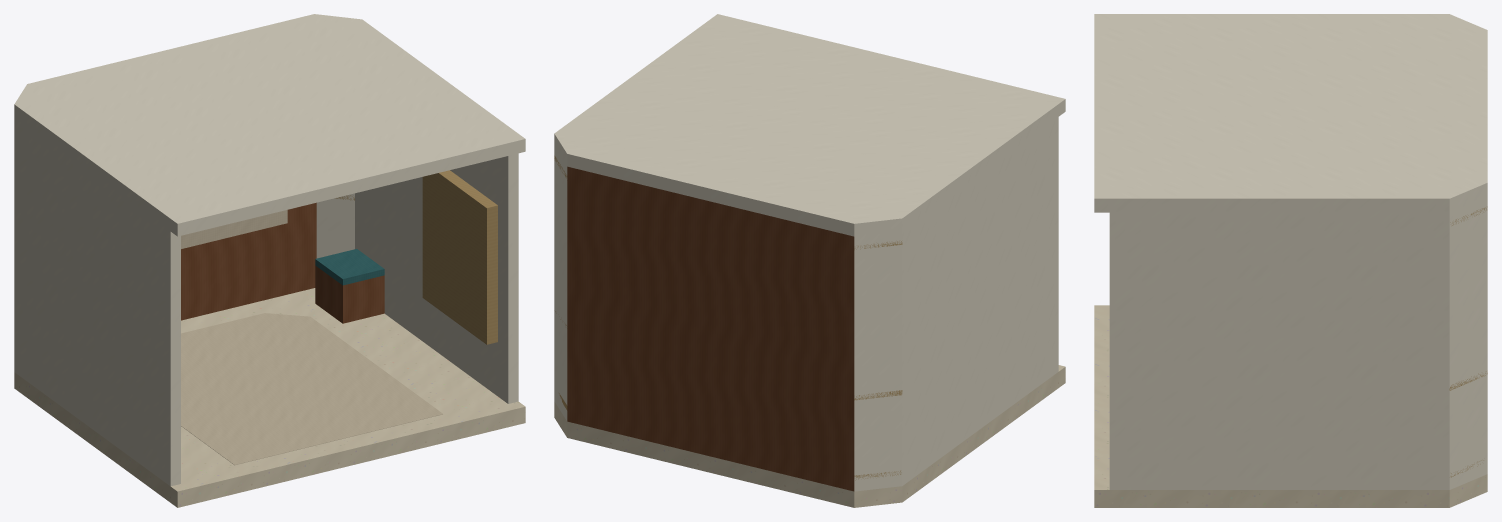
The model's file is AST-CIR-003_eighteen_stop.glb.
3 renders of one model, left to right at view 1: azimuth 30°, elevation 25°; view 2: azimuth 150°, elevation 25°; view 3: azimuth 270°, elevation 25°, orthographic. The views are drawn at different scales.
Parts seen in each view (by area): view 1: CAB_ivory_enamel, CAB_oatmeal_weave, CAB_warm_stone, CAB_warm_walnut, CAB_champagne_metal, CAB_teal_weave; view 2: CAB_ivory_enamel, CAB_warm_walnut, CAB_warm_stone, CAB_champagne_metal; view 3: CAB_ivory_enamel, CAB_warm_stone.
Boxes of the visible parts, bbox=[...] form: CAB_ivory_enamel: bbox=[14, 14, 525, 486]; CAB_oatmeal_weave: bbox=[181, 210, 442, 465]; CAB_warm_stone: bbox=[14, 288, 525, 507]; CAB_warm_walnut: bbox=[181, 202, 384, 323]; CAB_champagne_metal: bbox=[335, 170, 497, 344]; CAB_teal_weave: bbox=[315, 249, 384, 285]; CAB_ivory_enamel: bbox=[554, 14, 1065, 491]; CAB_warm_walnut: bbox=[567, 166, 854, 491]; CAB_warm_stone: bbox=[554, 365, 1065, 507]; CAB_champagne_metal: bbox=[554, 155, 902, 480]; CAB_ivory_enamel: bbox=[1094, 14, 1487, 489]; CAB_warm_stone: bbox=[1094, 305, 1487, 507].
Bounding box in the file's own units: 4 × 3.12 × 3.6.
Materials: 7 (6 with a texture image).
